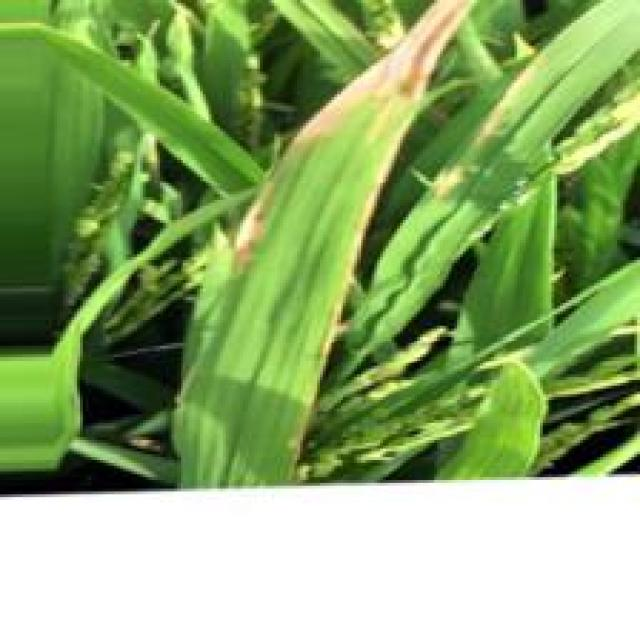Unhealthy: (231, 0, 485, 277), (326, 128, 410, 360), (476, 101, 505, 150), (435, 166, 464, 201), (511, 66, 533, 88)
